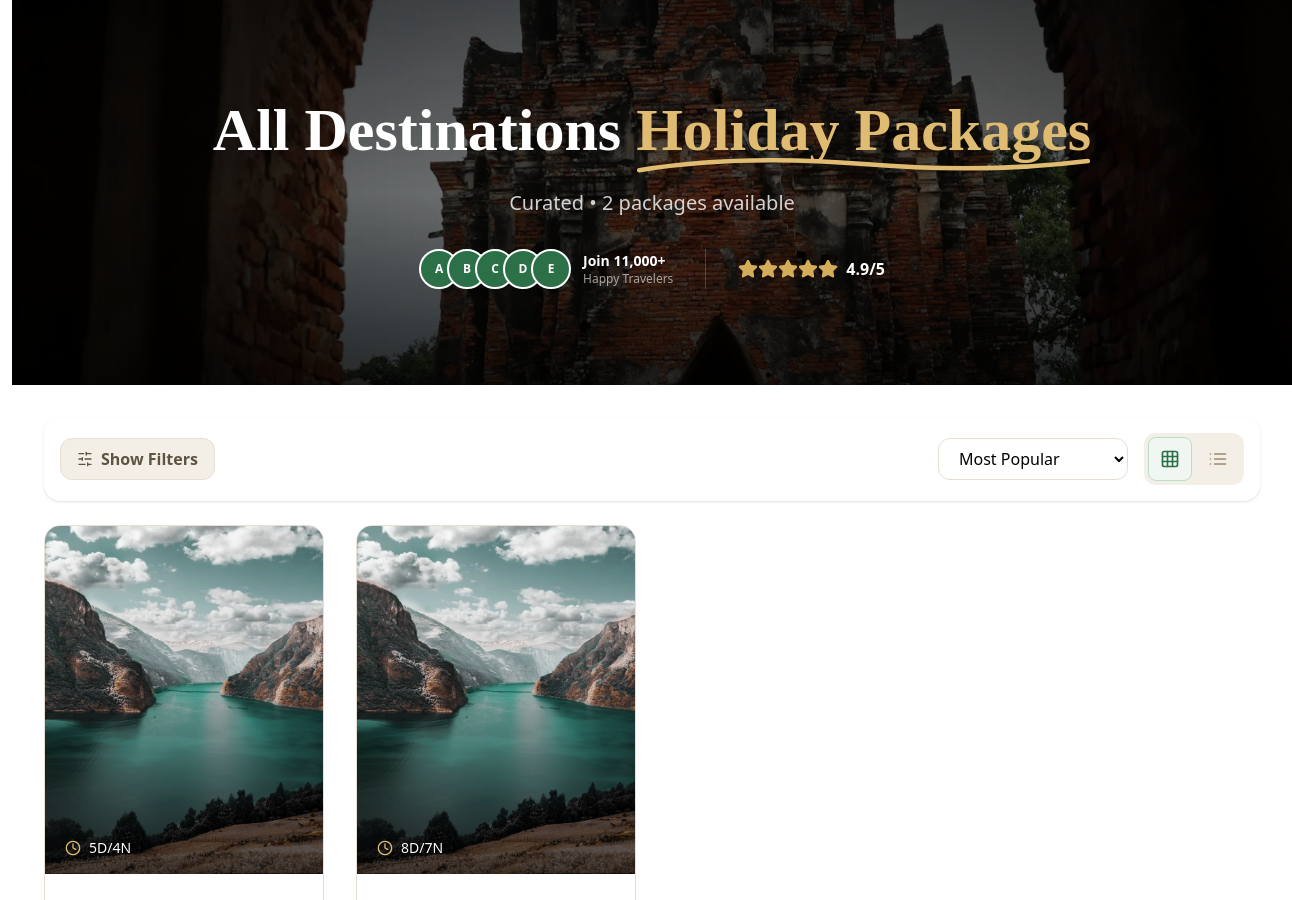
Test: PackagesContainer › sends the chosen sort to the server and reflects it in the URL
This screenshot has width=1292, height=900.
Select "Price: High to Low" in the dropdown at (1033, 459), box [938,438,1128,480]
(page scrolled)
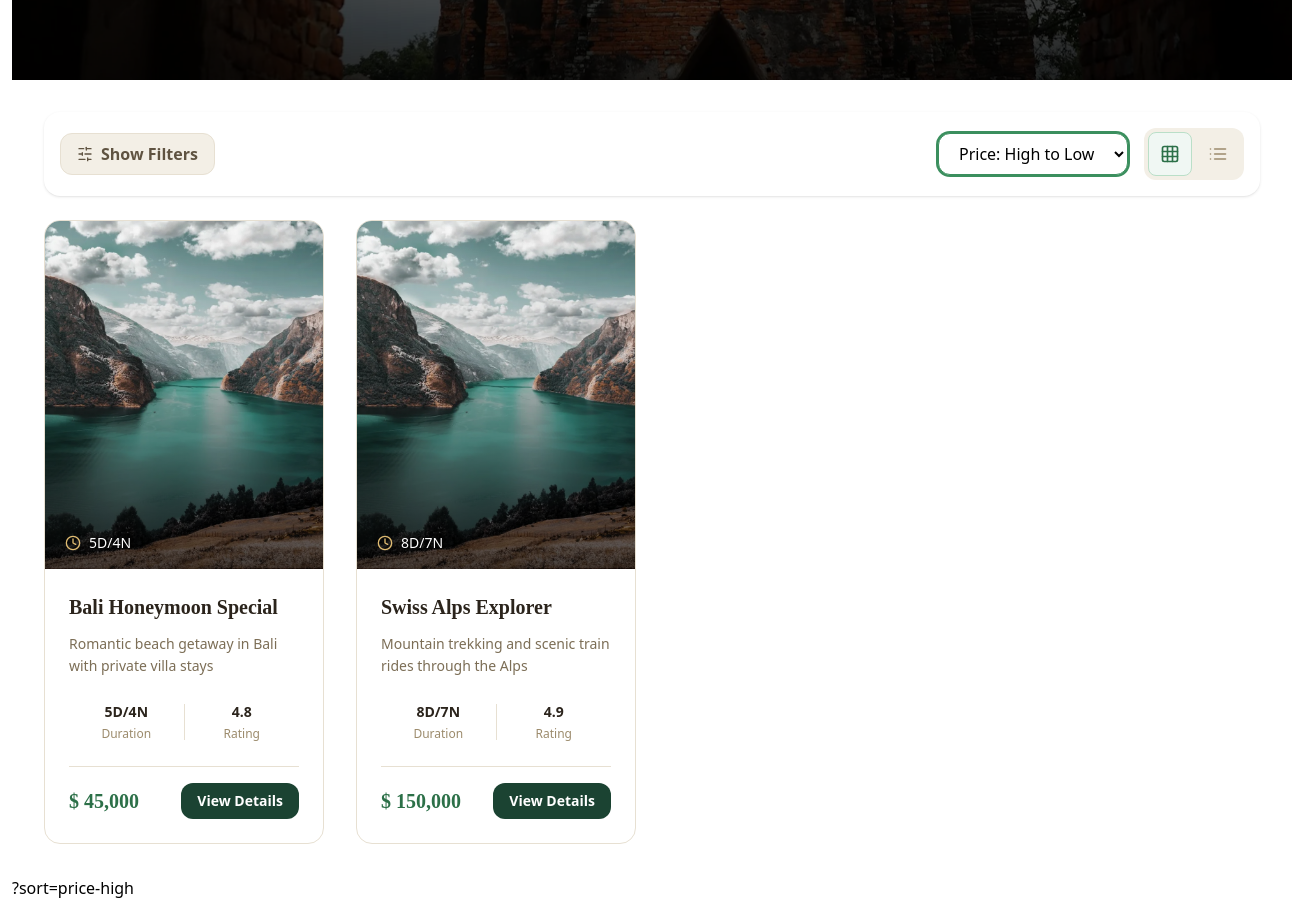
Now the text with test id "location-search" shows "sort=price-high", box [12,877,134,899]
